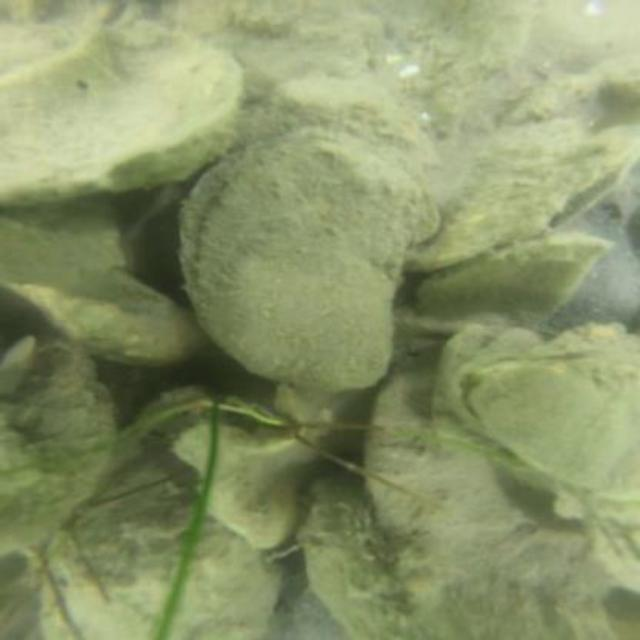Oyster-Closed: (169, 126, 439, 394), (366, 431, 617, 640), (0, 15, 245, 212), (400, 114, 632, 274), (451, 349, 640, 508), (0, 345, 119, 555), (297, 472, 447, 638), (48, 469, 195, 637), (416, 228, 612, 336), (170, 514, 284, 638)
